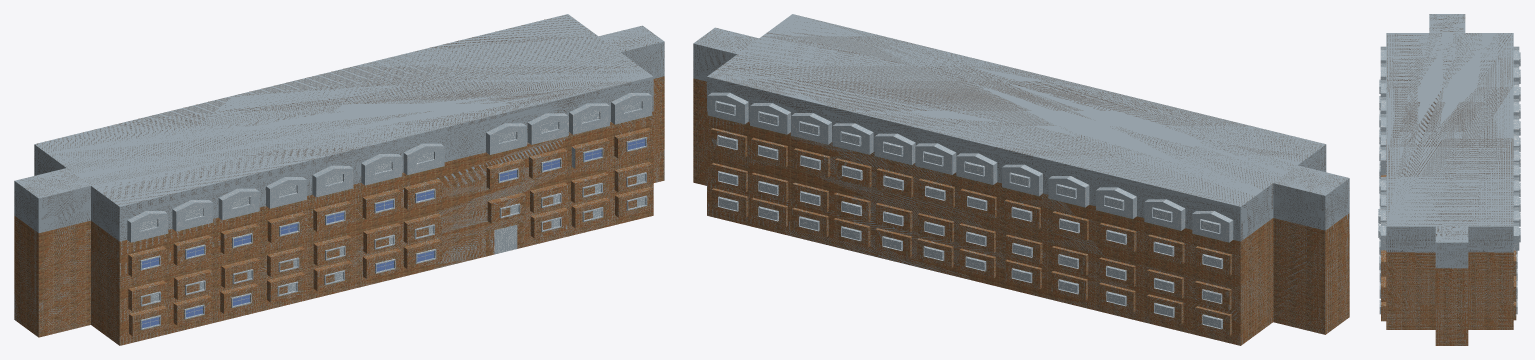
File: Linen(Textures).fbx
3 renders of one model, left to right at view 1: azimuth 30°, elevation 25°; view 2: azimuth 150°, elevation 25°; view 3: azimuth 270°, elevation 25°, orthographic. The views are drawn at different scales.
Parts seen in each view (by area): view 1: Model; view 2: Model; view 3: Model.
Part boxes in pixels (box(x1,y1,x2,y2)): Model: box(14, 14, 664, 345); Model: box(693, 14, 1349, 345); Model: box(1378, 14, 1520, 345).
Bounding box in the file's own units: 2276 × 480 × 600.
